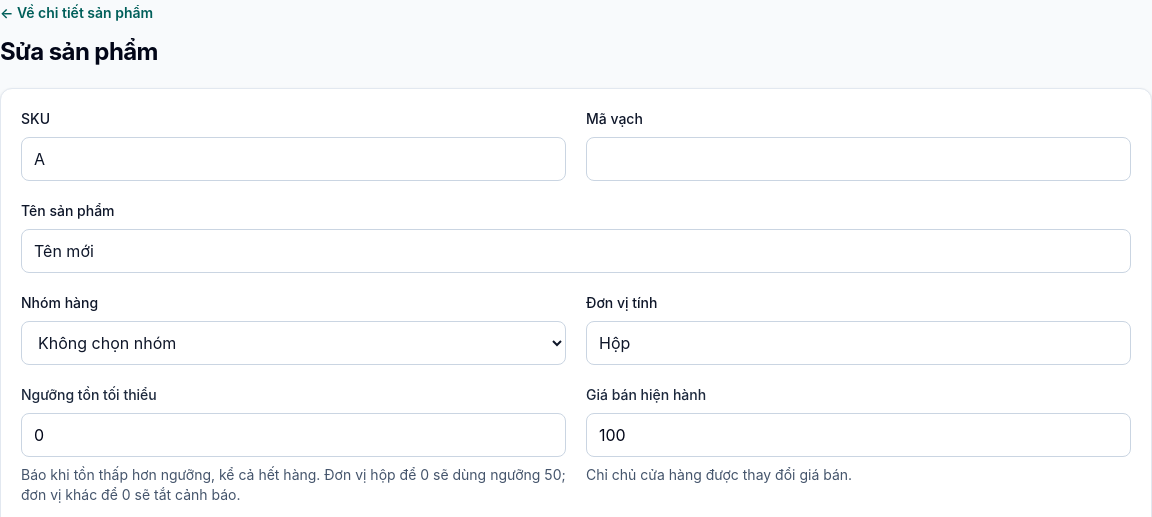
Test: requires explicit discard before refreshing dirty fields, but refreshes pristine fields
The image size is (1152, 517).
Replace the text in the field labelled "Tên sản phẩm" with "Chưa lưu" at (576, 251), box [21,229,1131,273]
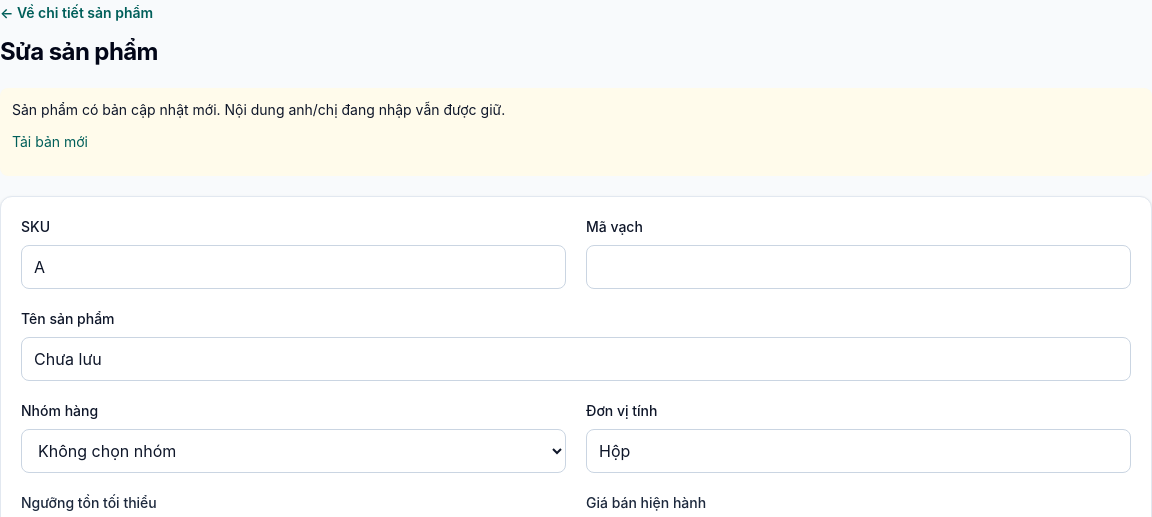
Click the button "Tải bản mới" at (50, 142), box [12,120,88,164]
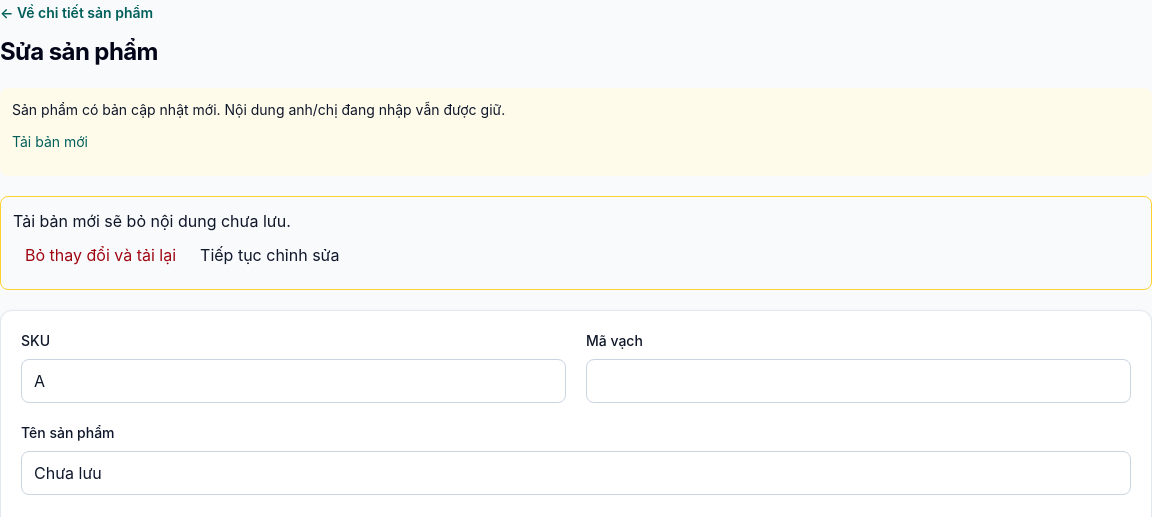
Click the button "Bỏ thay đổi và tải lại" at (101, 255), box [13,233,188,277]
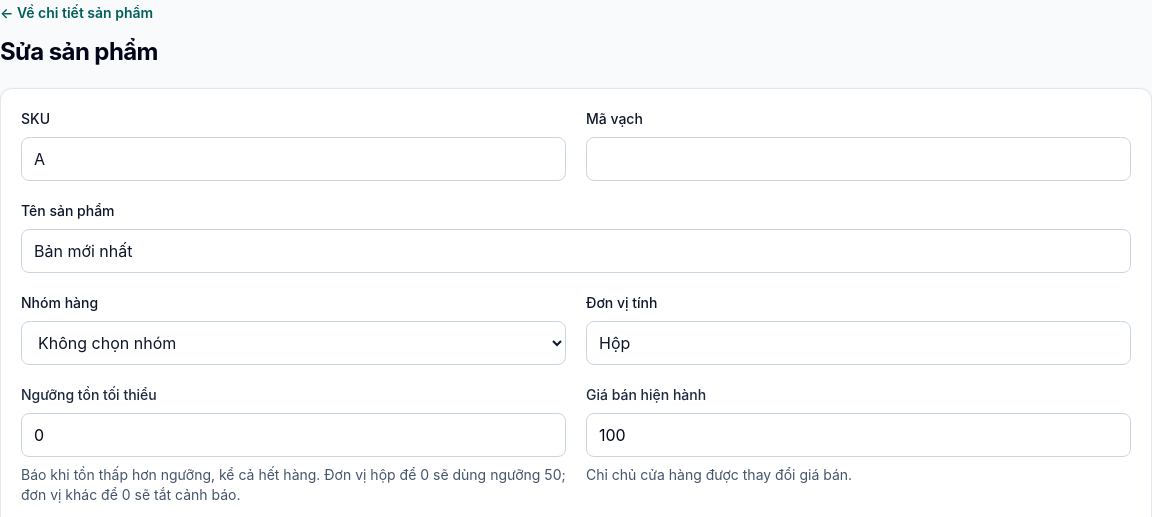
Check: the field labelled "Tên sản phẩm" holds "Bản mới nhất", box [21,229,1131,273]
